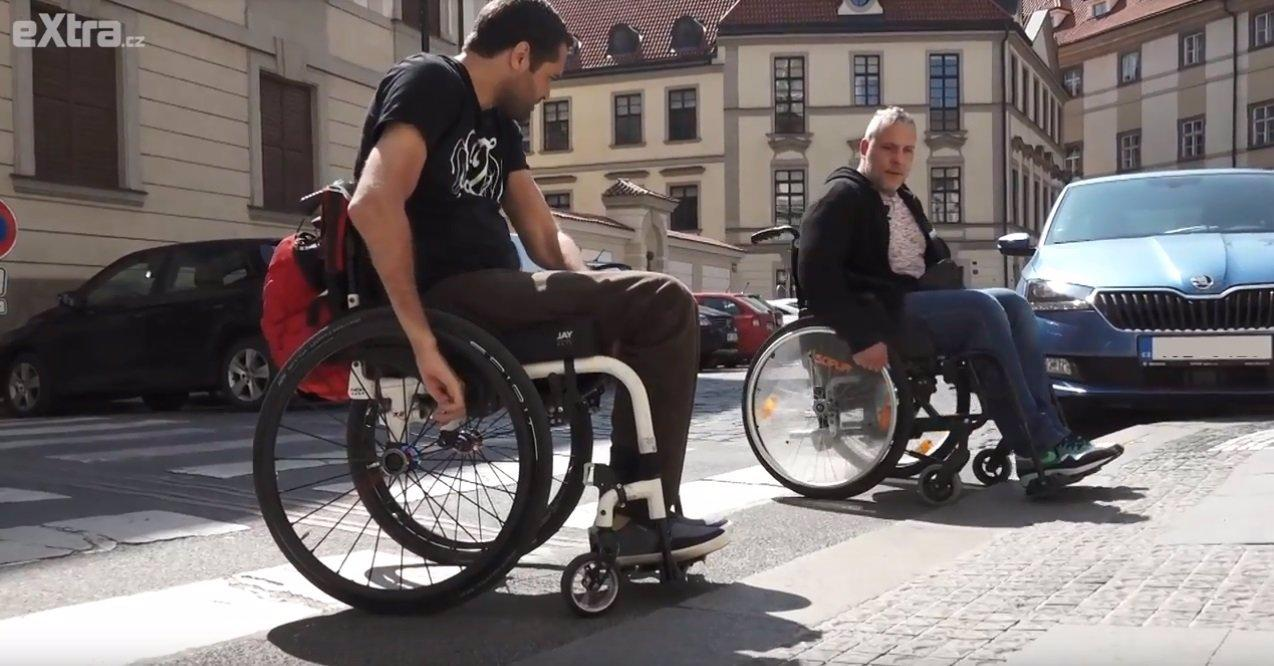wheelchair: (252, 0, 733, 616), (742, 106, 1125, 506)
